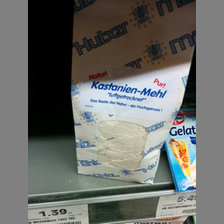flour: (69, 13, 196, 185)
